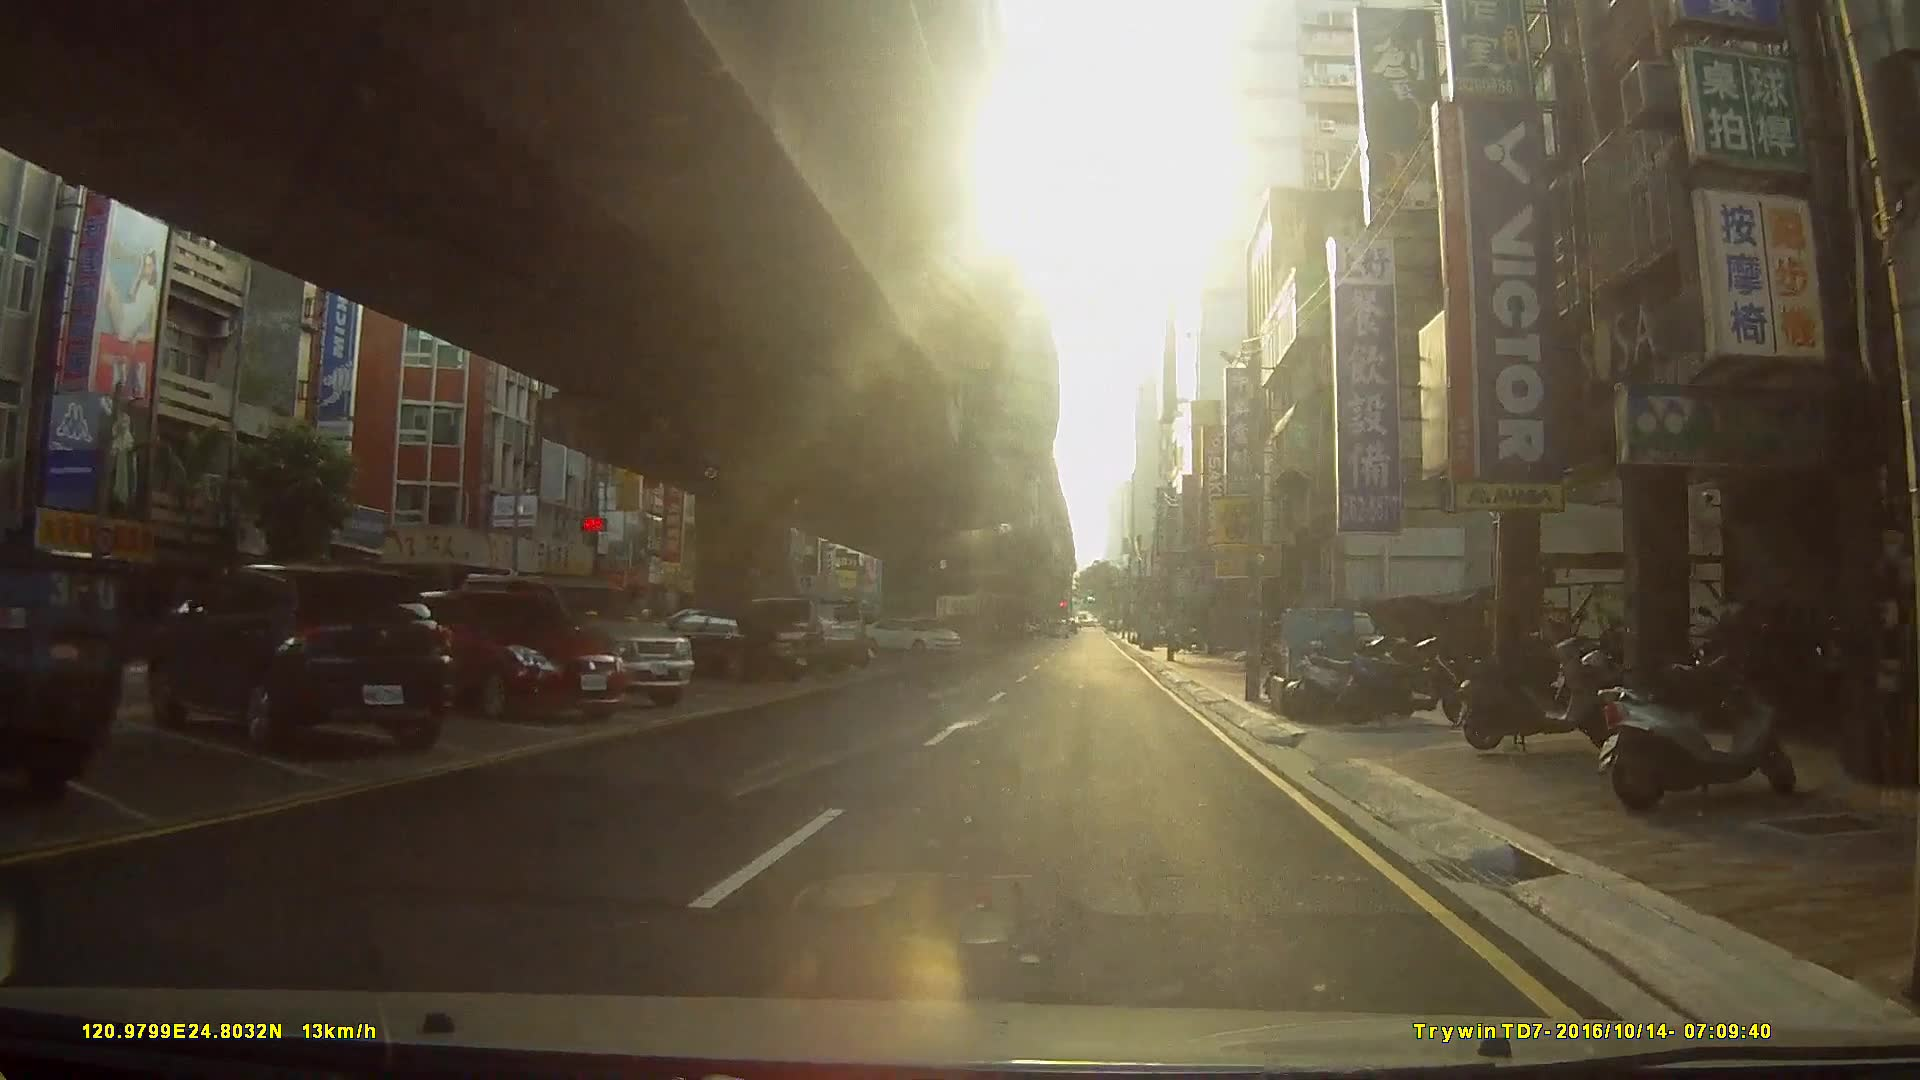vehicle: (145, 559, 450, 749), (455, 568, 696, 711), (0, 550, 129, 806), (401, 585, 626, 723), (637, 607, 818, 682), (715, 593, 866, 674), (858, 615, 961, 655)
